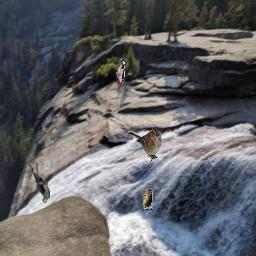Cuckoo: (27, 163, 50, 203)
Sparrow: (127, 125, 162, 165), (143, 188, 153, 210)
Woodpecker: (116, 58, 125, 98)
